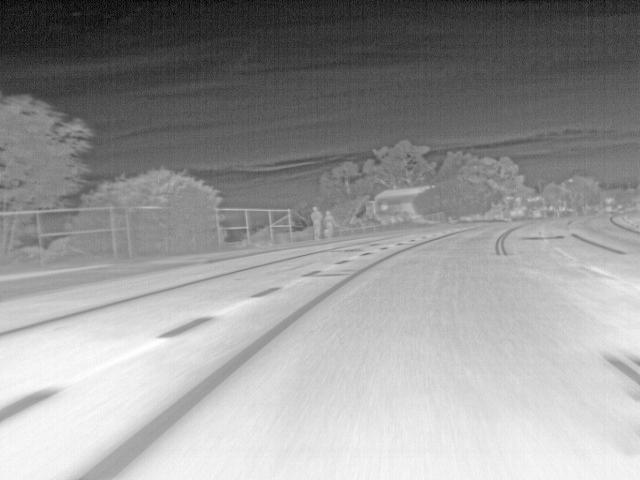car: (511, 206, 530, 222), (530, 209, 543, 221)
person: (310, 204, 322, 239), (324, 209, 336, 239)
